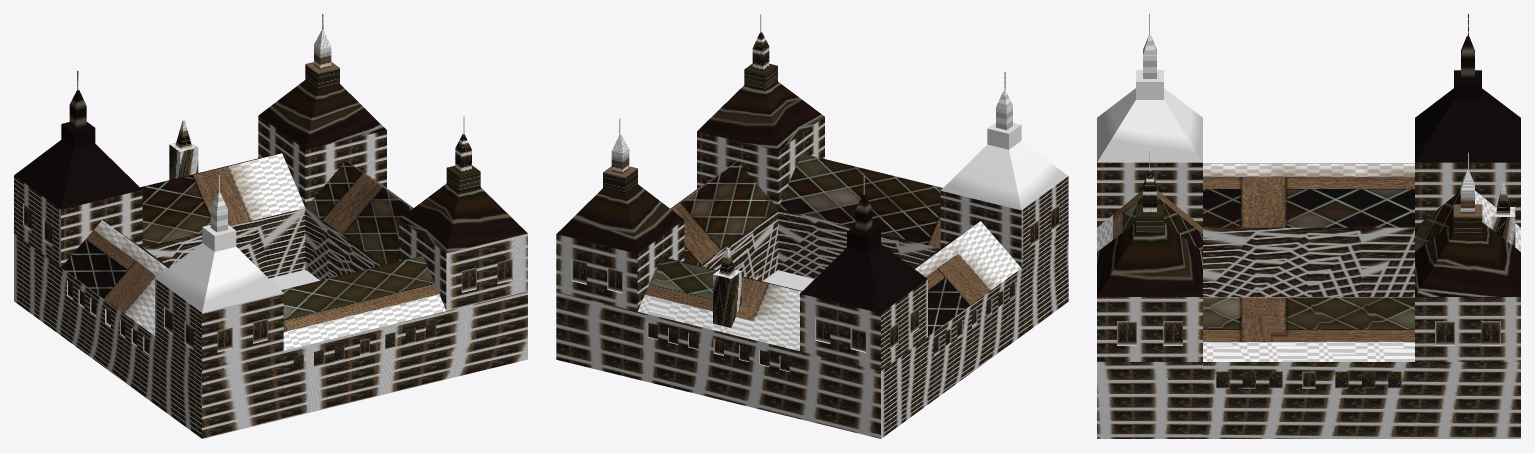
The model's file is awesome_castle.fbx.
3 views of the same model, side by side, from view 1: azimuth 30°, elevation 25°; view 2: azimuth 150°, elevation 25°; view 3: azimuth 270°, elevation 25° (orthographic). The views are drawn at different scales.
Parts seen in each view (by area): view 1: Church; view 2: Church; view 3: Church.
Part boxes in pixels (x1=…): Church: x1=14, y1=14, x2=527, y2=438; Church: x1=556, y1=14, x2=1068, y2=438; Church: x1=1097, y1=14, x2=1520, y2=438.
Size of the model in its own units: 1500 by 1045 by 1500.
